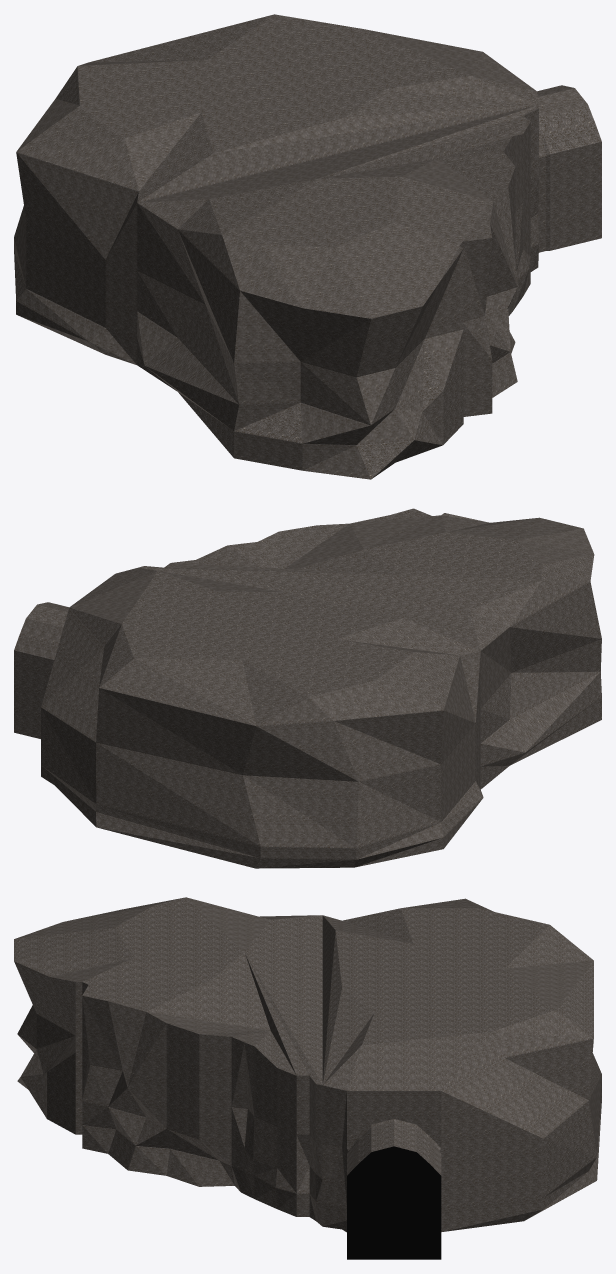
File: original dragon cave.FBX
The picture shows the model from 3 angles, top to bottom: view 1: azimuth 30°, elevation 25°; view 2: azimuth 150°, elevation 25°; view 3: azimuth 270°, elevation 25°; orthographic projection. The views are drawn at different scales.
Visible parts, largest first — view 1: Room1, Room2; view 2: Room2, Room1; view 3: Room2, Room1.
Boxes of the visible parts, bbox=[...] form: Room1: bbox=[137, 105, 538, 479]; Room2: bbox=[14, 14, 601, 364]; Room2: bbox=[14, 567, 483, 868]; Room1: bbox=[139, 508, 601, 789]; Room2: bbox=[322, 898, 601, 1259]; Room1: bbox=[14, 897, 322, 1226].
Size of the model in its own units: 512000 by 579200 by 185600.
